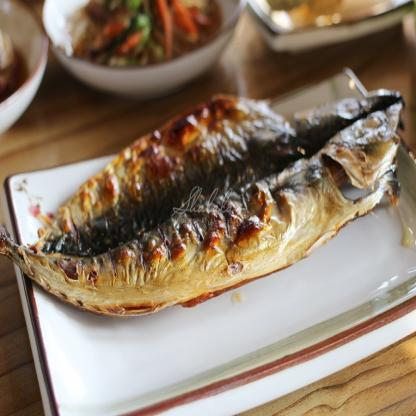Peixe: (0, 82, 416, 326)
